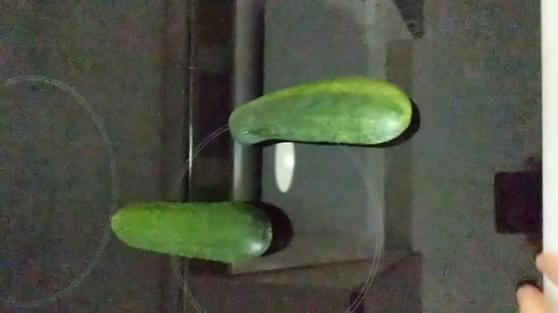cucumber: (230, 76, 414, 147), (111, 199, 273, 264)
